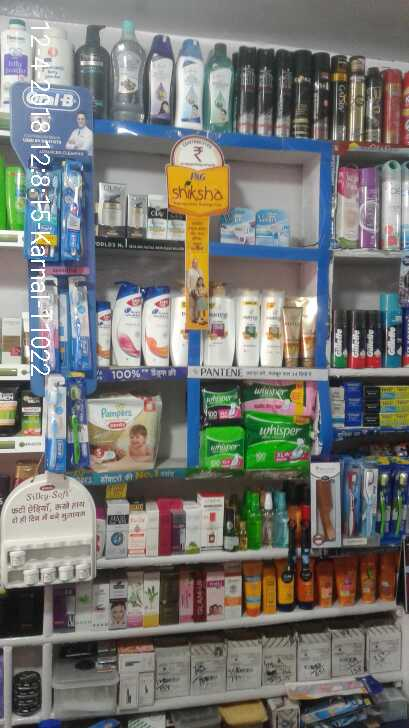ambipureVesus: (382, 159, 401, 250)
gillete: (381, 292, 400, 369), (364, 310, 381, 369), (348, 309, 364, 368), (332, 310, 347, 368)
venus: (255, 209, 291, 245), (220, 207, 255, 243)
